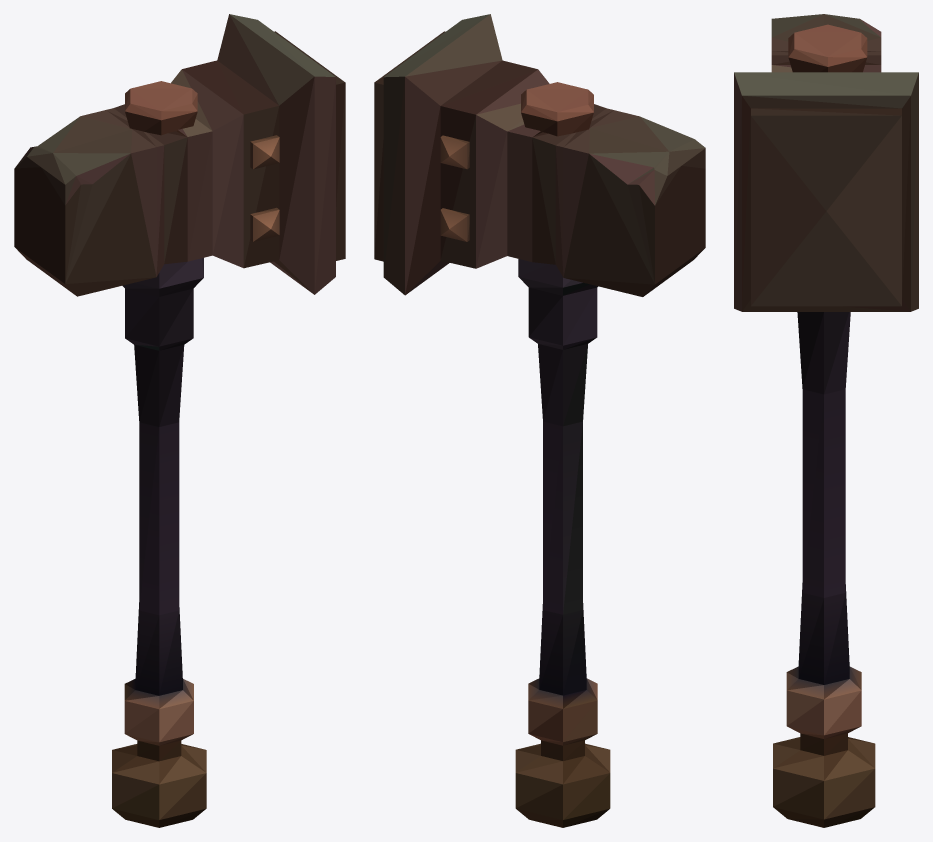
File: weapon_hammer_bronze_1.fbx
The picture shows the model from 3 angles, left to right: view 1: azimuth 30°, elevation 25°; view 2: azimuth 150°, elevation 25°; view 3: azimuth 270°, elevation 25°; orthographic projection. The views are drawn at different scales.
Parts seen in each view (by area): view 1: weapon_hammer_bronze_1; view 2: weapon_hammer_bronze_1; view 3: weapon_hammer_bronze_1.
Boxes of the visible parts, x1,y1,x2,y2 form: weapon_hammer_bronze_1: (14, 14, 345, 827); weapon_hammer_bronze_1: (374, 14, 705, 827); weapon_hammer_bronze_1: (734, 14, 918, 827).
Bounding box in the file's own units: 0.9844 × 2.56 × 0.5371.
